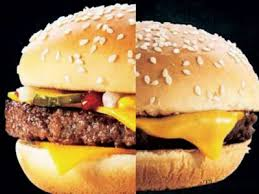hamburger: (7, 3, 257, 194)
